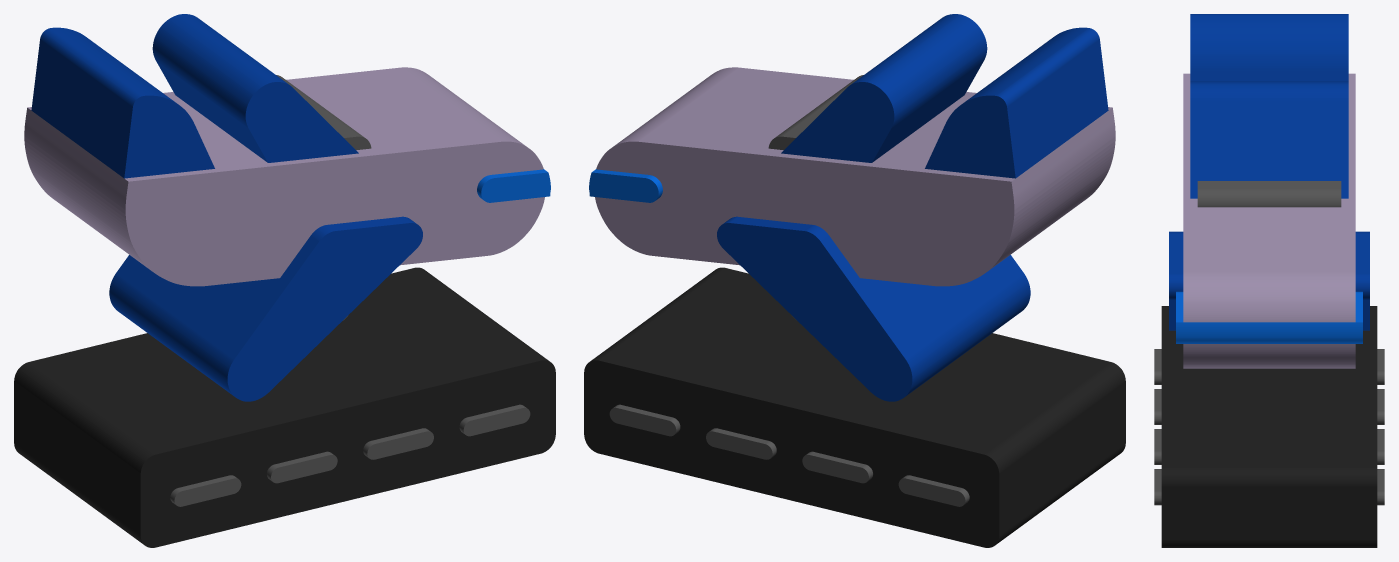
The picture shows the model from 3 angles, left to right: view 1: azimuth 30°, elevation 25°; view 2: azimuth 150°, elevation 25°; view 3: azimuth 270°, elevation 25°; orthographic projection. The views are drawn at different scales.
Visible parts, largest first — view 1: U+1F6EC_layer05_obj00, U+1F6EC_layer02_obj00, U+1F6EC_layer01_obj00, U+1F6EC_layer04_obj00, U+1F6EC_layer06_obj00, U+1F6EC_layer03_obj00, U+1F6EC_layer00_obj00; view 2: U+1F6EC_layer05_obj00, U+1F6EC_layer02_obj00, U+1F6EC_layer01_obj00, U+1F6EC_layer04_obj00, U+1F6EC_layer06_obj00, U+1F6EC_layer03_obj00, U+1F6EC_layer00_obj00; view 3: U+1F6EC_layer05_obj00, U+1F6EC_layer01_obj00, U+1F6EC_layer02_obj00, U+1F6EC_layer03_obj00, U+1F6EC_layer00_obj00, U+1F6EC_layer04_obj00, U+1F6EC_layer06_obj00.
Part boxes in pixels (x1=…): U+1F6EC_layer05_obj00: x1=14, y1=267, x2=555, y2=547; U+1F6EC_layer02_obj00: x1=24, y1=67, x2=544, y2=286; U+1F6EC_layer01_obj00: x1=31, y1=14, x2=358, y2=178; U+1F6EC_layer04_obj00: x1=109, y1=216, x2=422, y2=401; U+1F6EC_layer06_obj00: x1=170, y1=404, x2=530, y2=506; U+1F6EC_layer03_obj00: x1=477, y1=169, x2=550, y2=202; U+1F6EC_layer00_obj00: x1=276, y1=75, x2=371, y2=320; U+1F6EC_layer05_obj00: x1=584, y1=267, x2=1125, y2=547; U+1F6EC_layer02_obj00: x1=595, y1=67, x2=1115, y2=286; U+1F6EC_layer01_obj00: x1=781, y1=14, x2=1108, y2=178; U+1F6EC_layer04_obj00: x1=717, y1=216, x2=1030, y2=401; U+1F6EC_layer06_obj00: x1=609, y1=404, x2=969, y2=506; U+1F6EC_layer03_obj00: x1=589, y1=169, x2=662, y2=202; U+1F6EC_layer00_obj00: x1=768, y1=75, x2=863, y2=320; U+1F6EC_layer05_obj00: x1=1161, y1=306, x2=1377, y2=547; U+1F6EC_layer01_obj00: x1=1190, y1=14, x2=1348, y2=198; U+1F6EC_layer02_obj00: x1=1183, y1=73, x2=1355, y2=368; U+1F6EC_layer03_obj00: x1=1176, y1=291, x2=1362, y2=343; U+1F6EC_layer00_obj00: x1=1197, y1=181, x2=1341, y2=207; U+1F6EC_layer04_obj00: x1=1169, y1=231, x2=1369, y2=330; U+1F6EC_layer06_obj00: x1=1154, y1=349, x2=1384, y2=505.
Size of the model in its own units: 0.576 by 0.5728 by 0.32.
